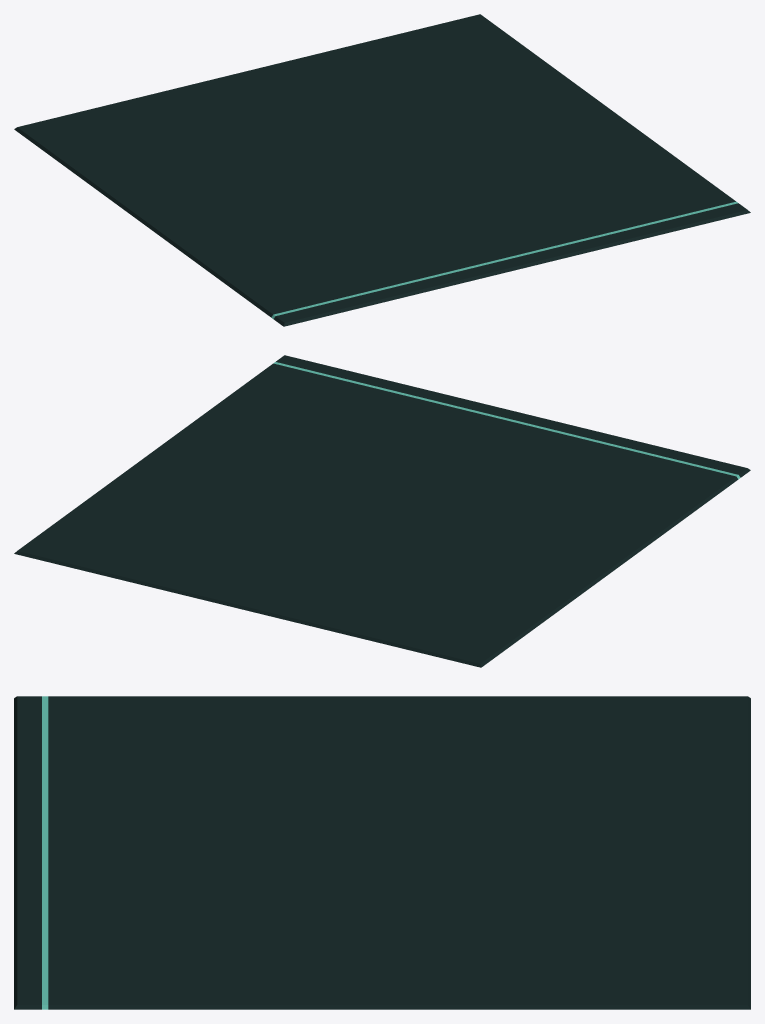
Rendered from Ground_Tron_Var02.fbx.
The picture shows the model from 3 angles, top to bottom: view 1: azimuth 30°, elevation 25°; view 2: azimuth 150°, elevation 25°; view 3: azimuth 270°, elevation 25°; orthographic projection. The views are drawn at different scales.
Visible parts, largest first — view 1: Ground_Tron_Var02; view 2: Ground_Tron_Var02; view 3: Ground_Tron_Var02.
Boxes of the visible parts, left/top/right/bottom form: Ground_Tron_Var02: left=14, top=14, right=750, bottom=326; Ground_Tron_Var02: left=14, top=355, right=750, bottom=667; Ground_Tron_Var02: left=14, top=696, right=750, bottom=1009.
Size of the model in its own units: 600 by 3.14 by 600.
